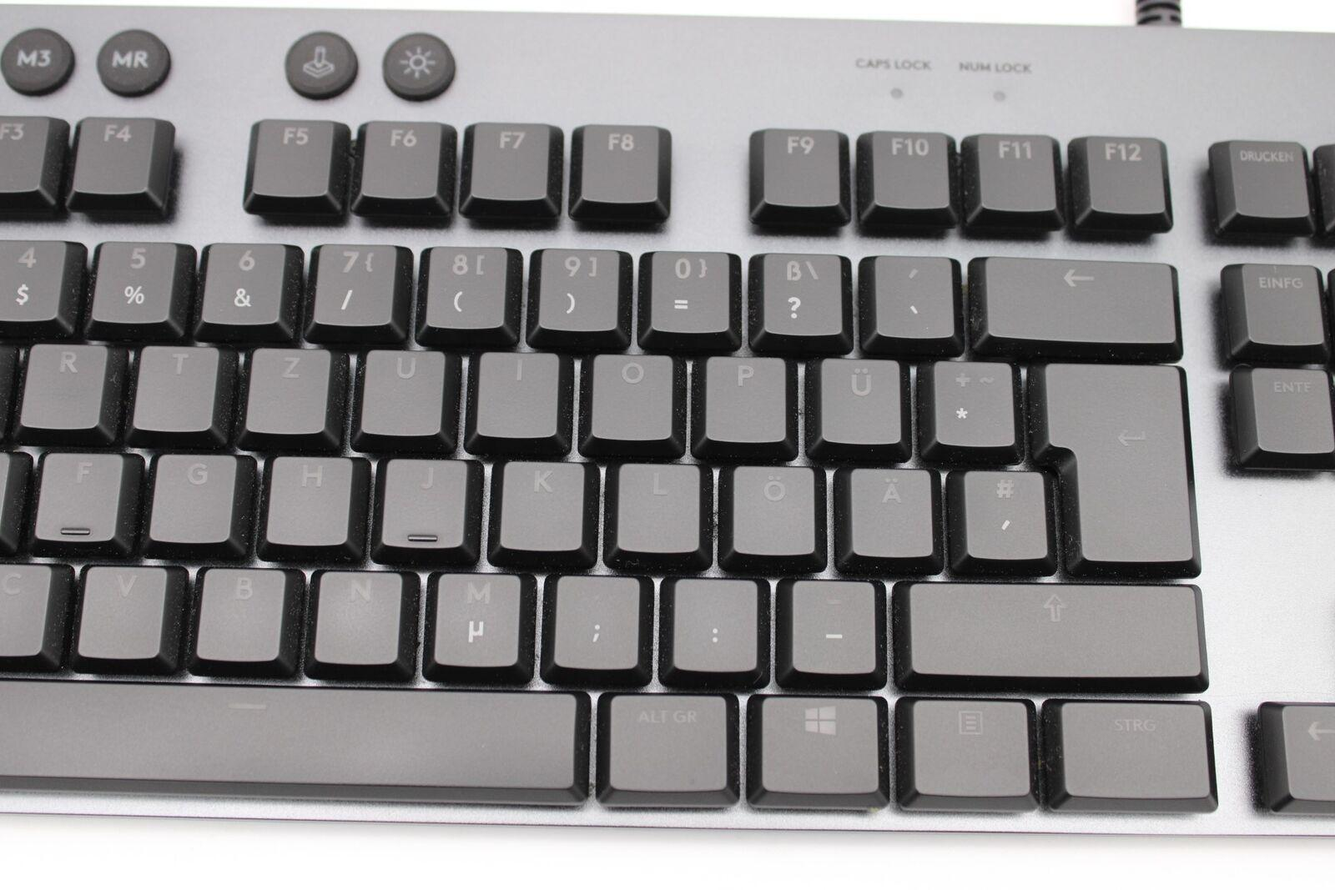0: (642, 244, 736, 335)
4: (1, 232, 66, 322)
5: (87, 234, 179, 324)
6: (197, 236, 290, 327)
7: (308, 237, 400, 329)
8: (419, 239, 511, 331)
9: (532, 242, 625, 332)
accent: (868, 248, 957, 339)
ae: (845, 462, 935, 558)
altgr-right: (602, 688, 733, 796)
b: (192, 561, 288, 661)
comma: (547, 569, 642, 670)
del: (975, 253, 1180, 344)
enter: (1036, 358, 1198, 566)
f: (32, 450, 123, 546)
g: (146, 447, 238, 543)
h: (263, 450, 355, 546)
hash: (959, 464, 1049, 560)
i: (473, 347, 562, 438)
j: (378, 452, 470, 551)
k: (496, 455, 587, 552)
keyboard: (3, 7, 1331, 847)
l: (612, 459, 703, 554)
m: (427, 566, 524, 668)
minus: (786, 573, 879, 673)
n: (309, 563, 406, 666)
o: (587, 348, 676, 440)
oe: (728, 460, 818, 556)
p: (700, 351, 788, 443)
plus: (929, 354, 1016, 446)
point: (668, 571, 763, 671)
r: (18, 337, 108, 430)
shift-right: (892, 576, 1206, 679)
space: (7, 676, 585, 789)
ss: (754, 245, 845, 337)
strg-right: (1050, 695, 1217, 802)
t: (130, 340, 219, 430)
u: (357, 344, 447, 436)
ue: (815, 352, 904, 445)
v: (73, 558, 169, 659)
z: (243, 343, 332, 435)
